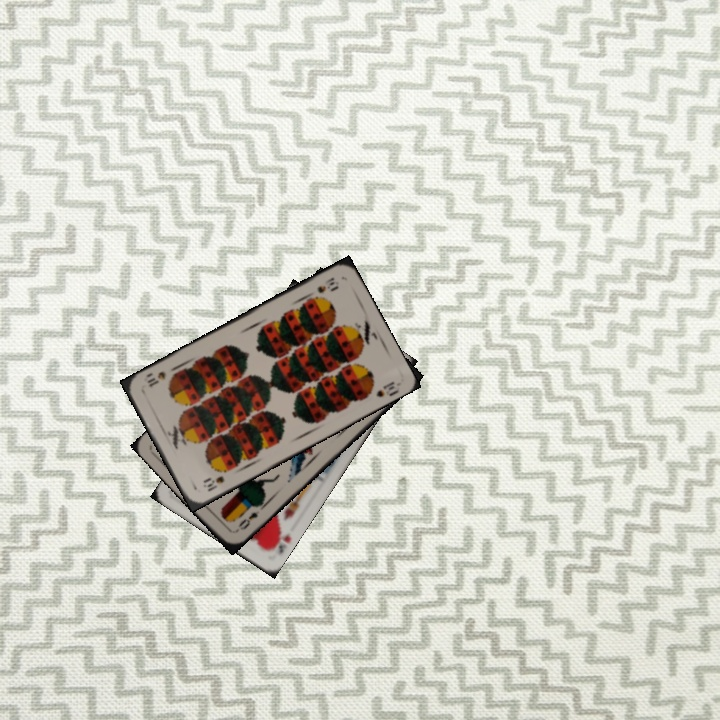EO: (232, 507, 262, 534)
HK: (271, 527, 294, 556)
S10: (313, 273, 341, 296), (199, 472, 227, 494)
